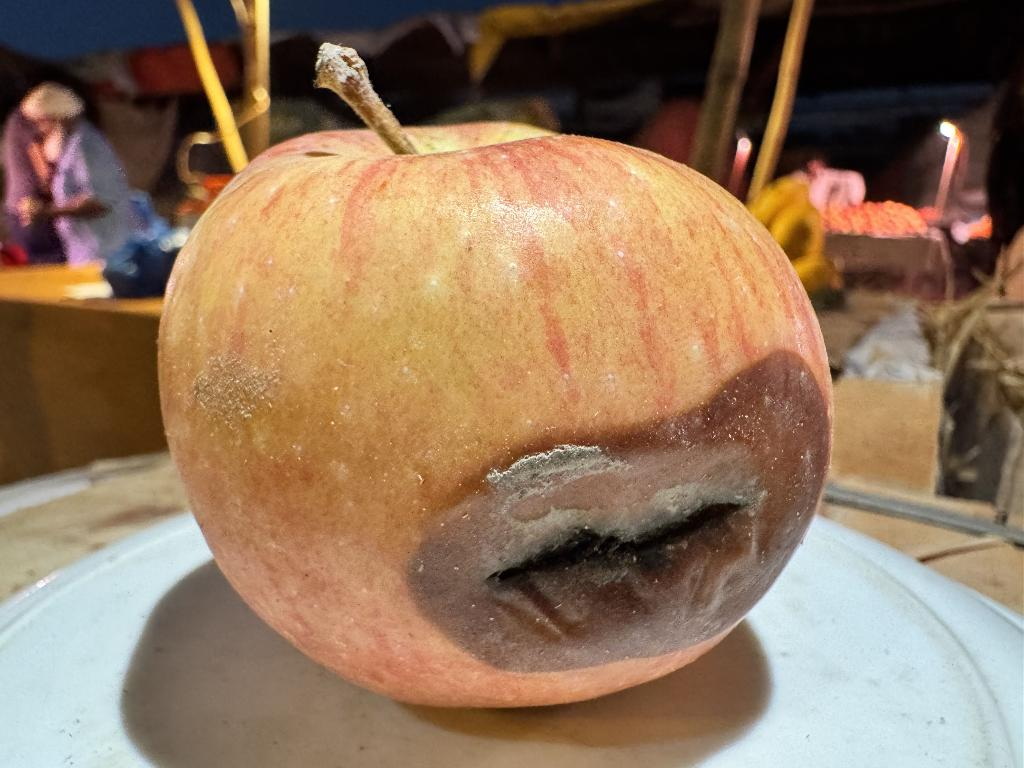apple: (159, 124, 831, 705)
rot_mold_decay: (407, 356, 824, 673)
